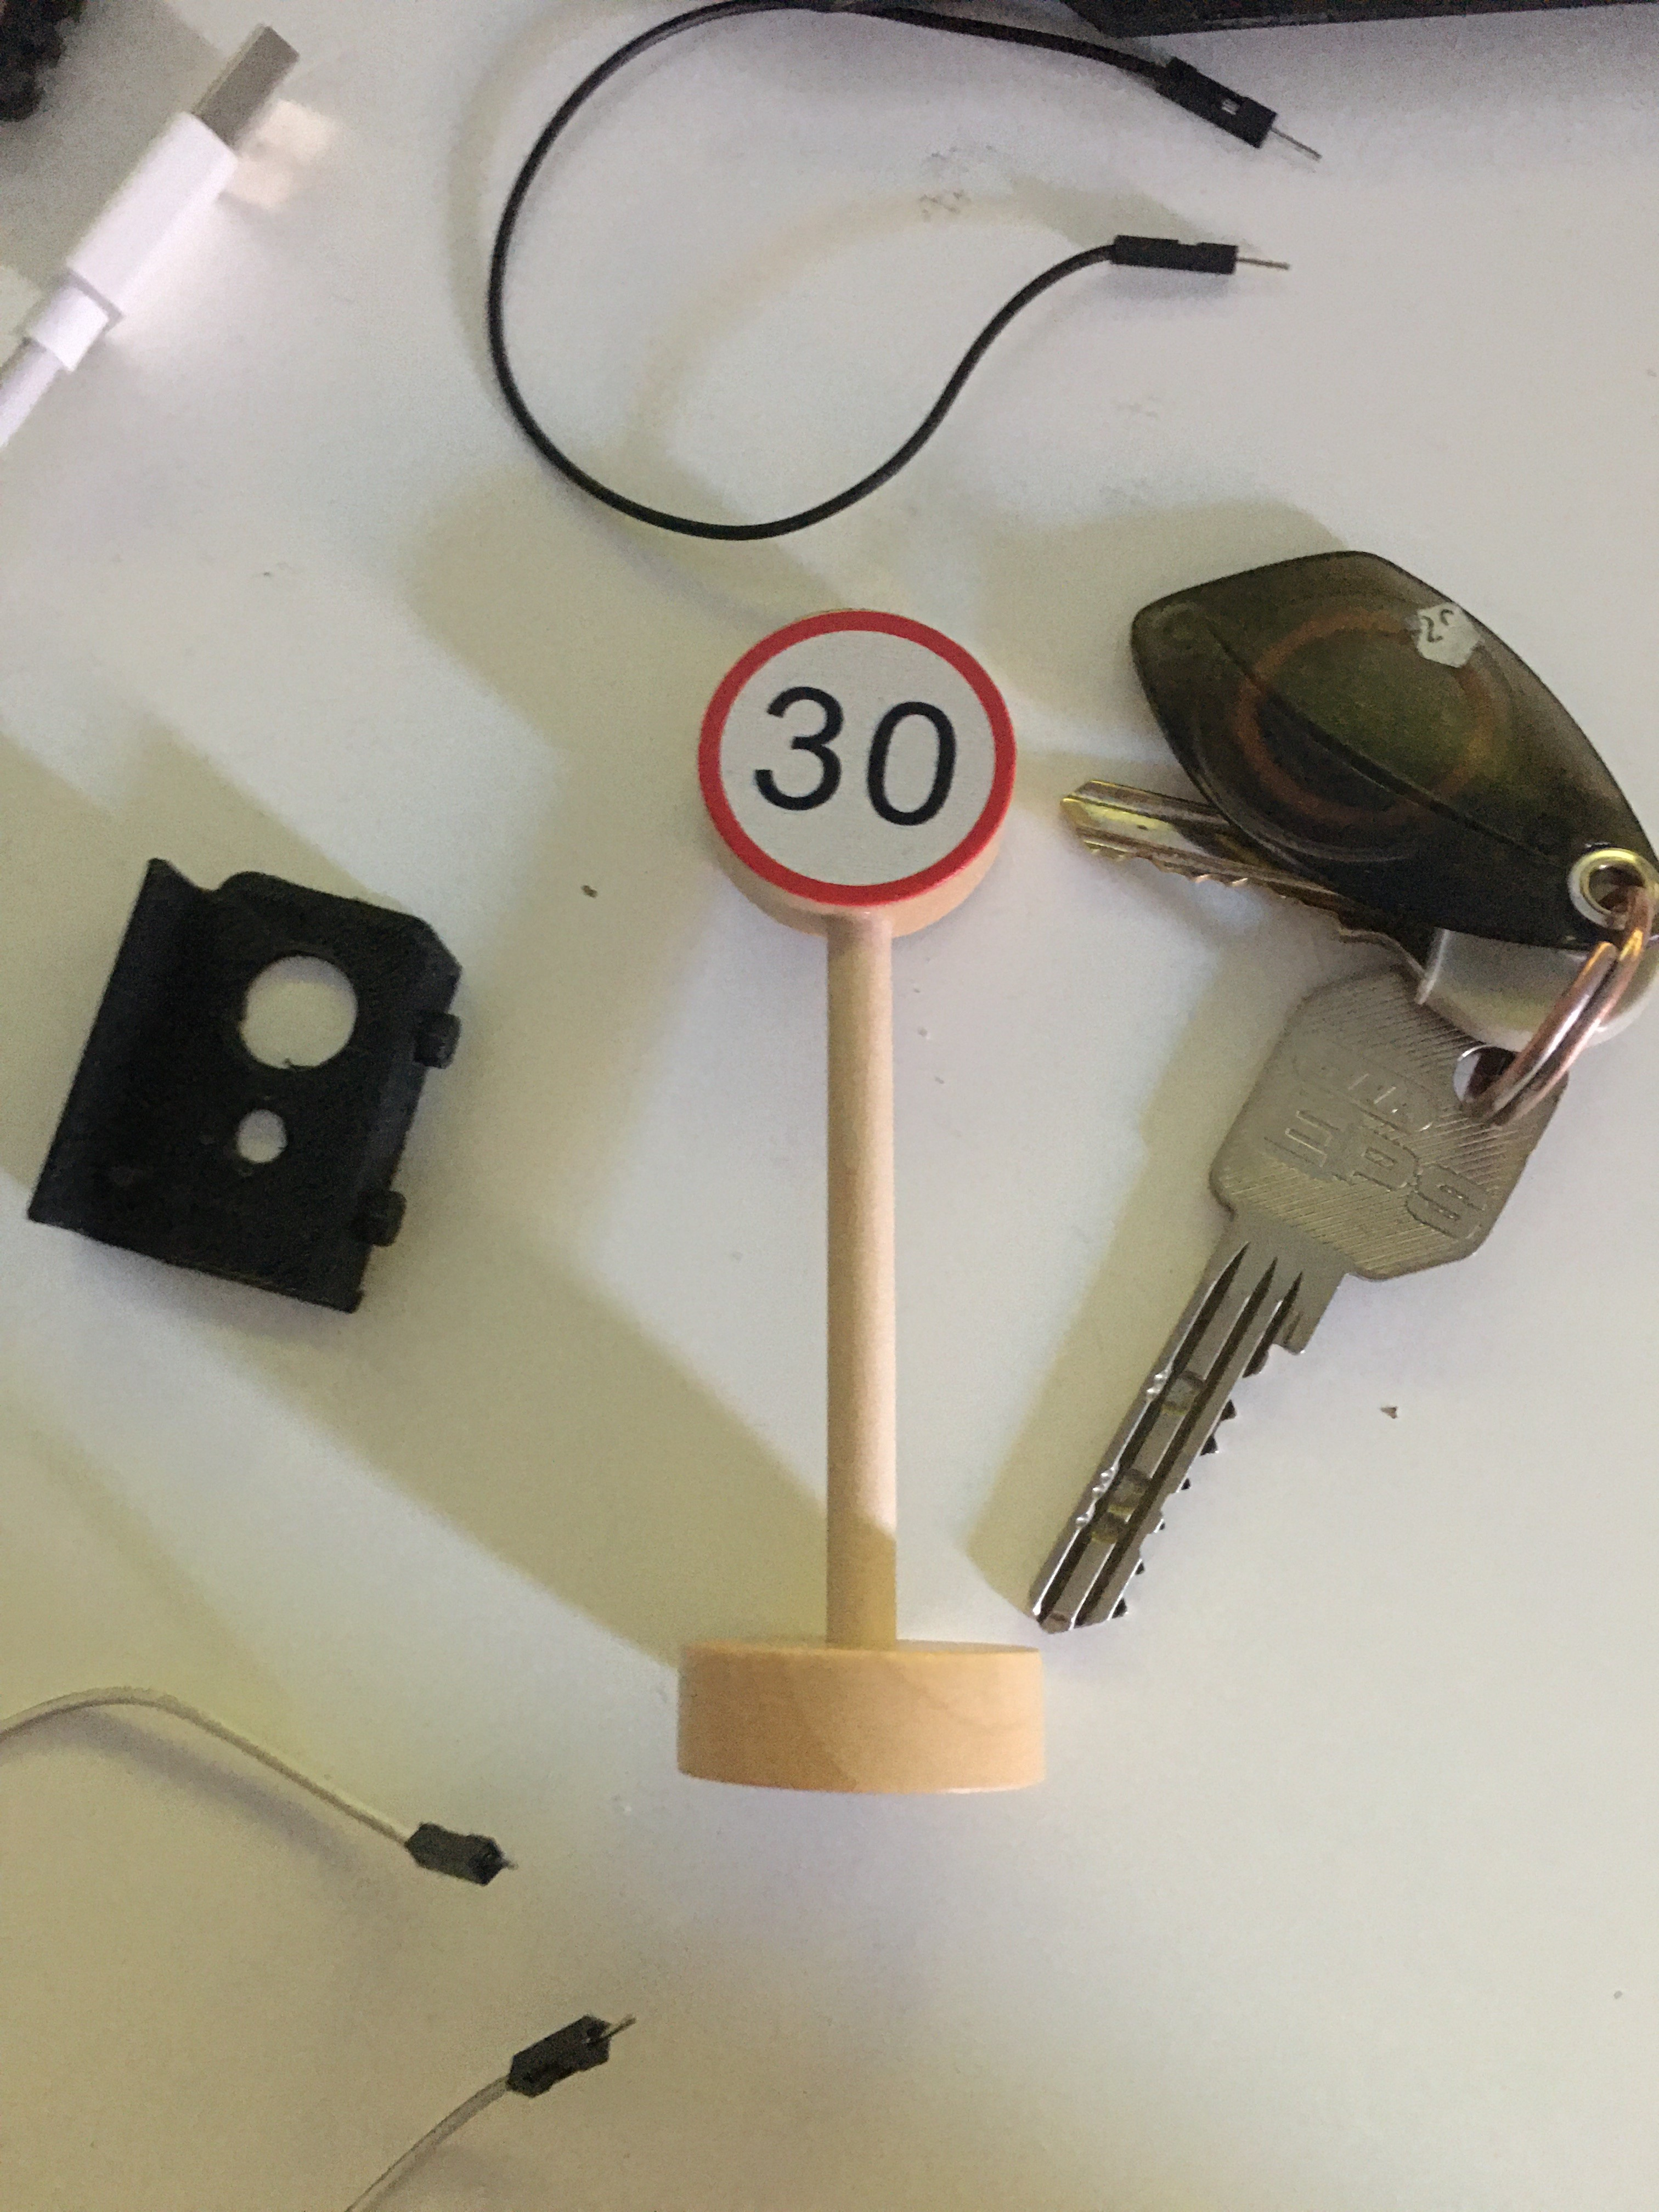Traffic_Sign_30: (688, 608, 1018, 909)
